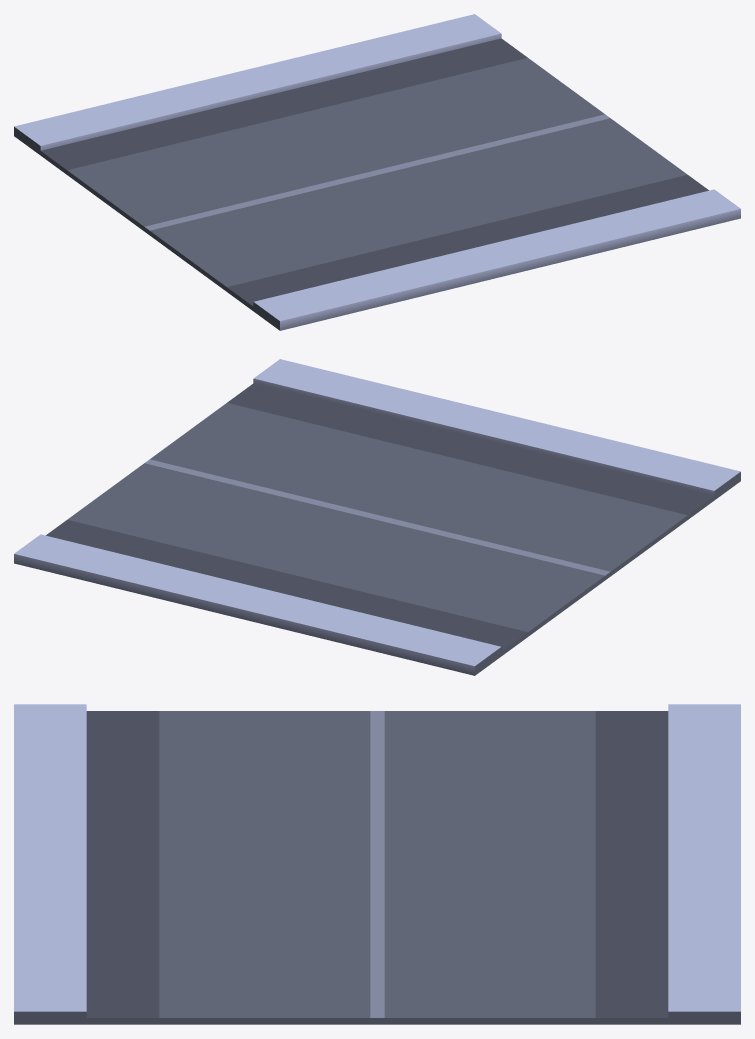
The model's file is roads.road_straight.glb.
The picture shows the model from 3 angles, top to bottom: view 1: azimuth 30°, elevation 25°; view 2: azimuth 150°, elevation 25°; view 3: azimuth 270°, elevation 25°; orthographic projection. The views are drawn at different scales.
Parts seen in each view (by area): view 1: road-straight; view 2: road-straight; view 3: road-straight.
Boxes of the visible parts, x1,y1,x2,y2 form: road-straight: (14, 14, 740, 330); road-straight: (14, 359, 740, 675); road-straight: (14, 704, 740, 1024).
Bounding box in the file's own units: 7.45 × 0.1491 × 7.45.
Materials: 1 (1 with a texture image).
